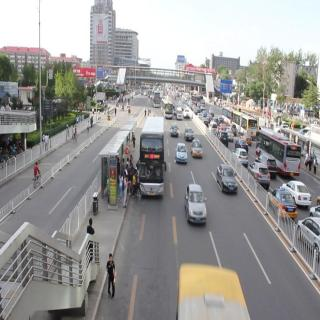BigCar: (140, 118, 167, 202), (258, 126, 302, 176), (232, 107, 256, 136), (162, 99, 173, 119)
Car: (184, 181, 208, 228), (268, 182, 296, 222), (216, 160, 239, 199), (285, 175, 312, 207), (298, 214, 320, 252), (249, 160, 270, 192), (232, 144, 246, 166), (191, 136, 204, 159), (176, 142, 187, 164), (217, 130, 229, 146), (186, 126, 196, 142), (170, 122, 178, 140), (236, 139, 248, 151), (177, 106, 184, 124), (209, 122, 218, 136), (184, 107, 191, 121)
